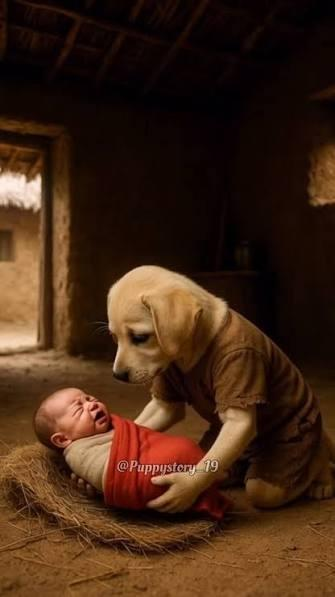adult_dog: (106, 262, 335, 517)
non-dog: (33, 386, 236, 521)
